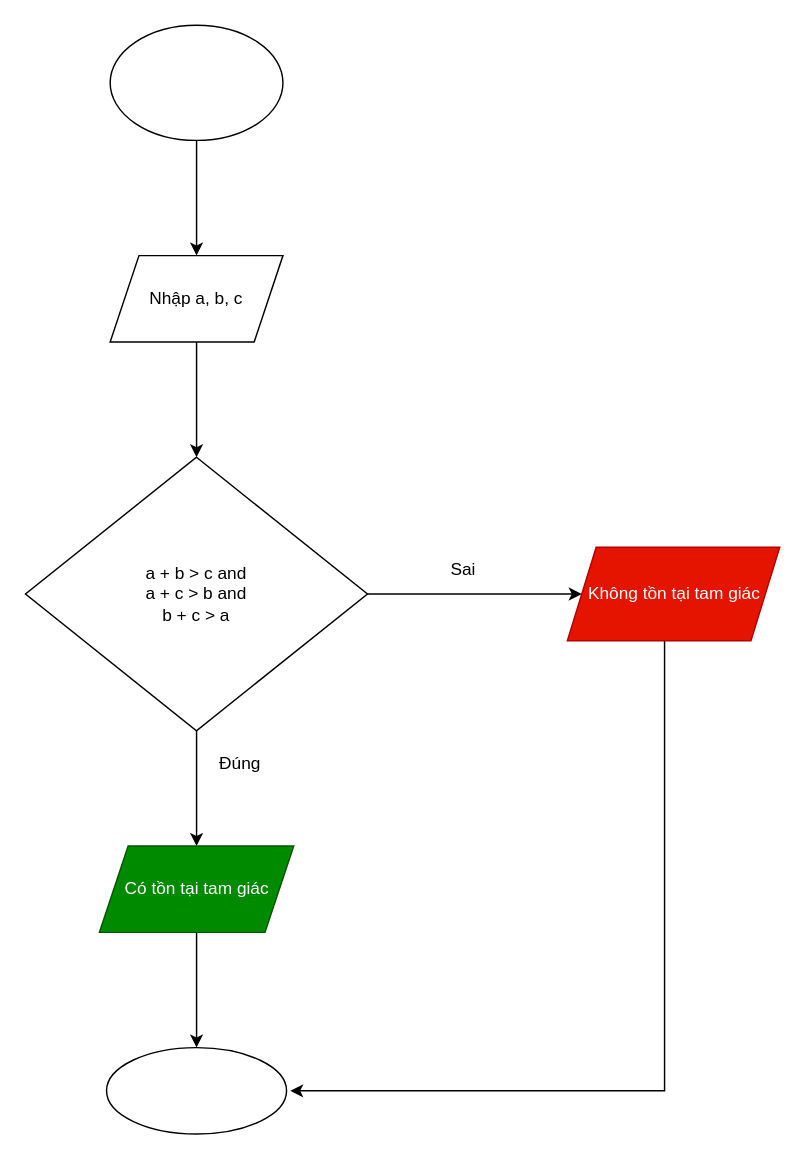
This 805x1159 diagram has some shape labels left out. The shapes that lost their labels are listed below. From the top down, each one's centre as x and y in pixels, then its label:
point (196, 82): Bắt đầu
point (196, 1090): Kết thúc
